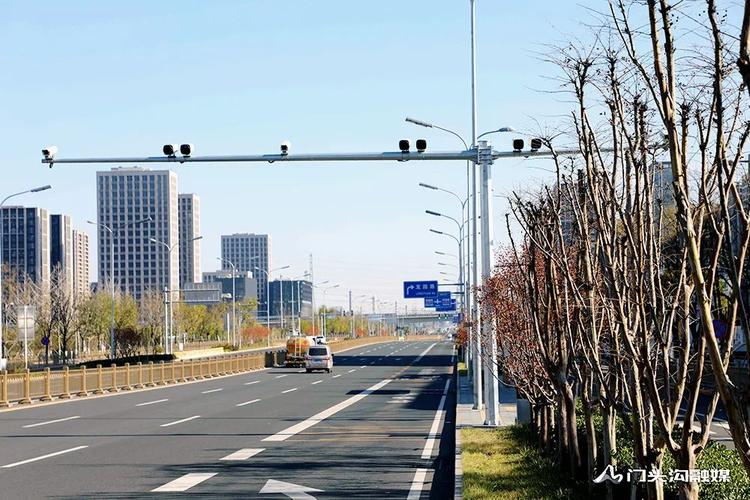camera: (41, 146, 61, 165), (396, 139, 412, 155), (163, 142, 178, 159), (279, 142, 290, 164), (180, 143, 194, 157), (416, 140, 428, 156), (532, 136, 543, 150), (512, 141, 524, 153)
car: (305, 348, 333, 372)
sign: (404, 280, 437, 298), (423, 292, 451, 307), (438, 299, 456, 311)
